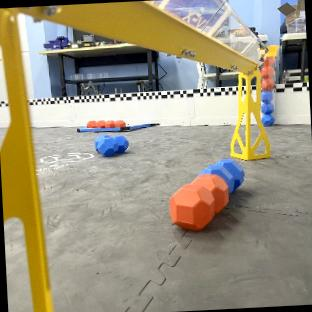Goal: (20, 0, 270, 159)
Parking - B: (76, 126, 134, 132), (133, 123, 150, 128)
V5_BLUE: (200, 158, 243, 191), (95, 134, 128, 155), (260, 91, 273, 124)
V5_RED: (168, 172, 228, 230), (85, 120, 125, 128)
